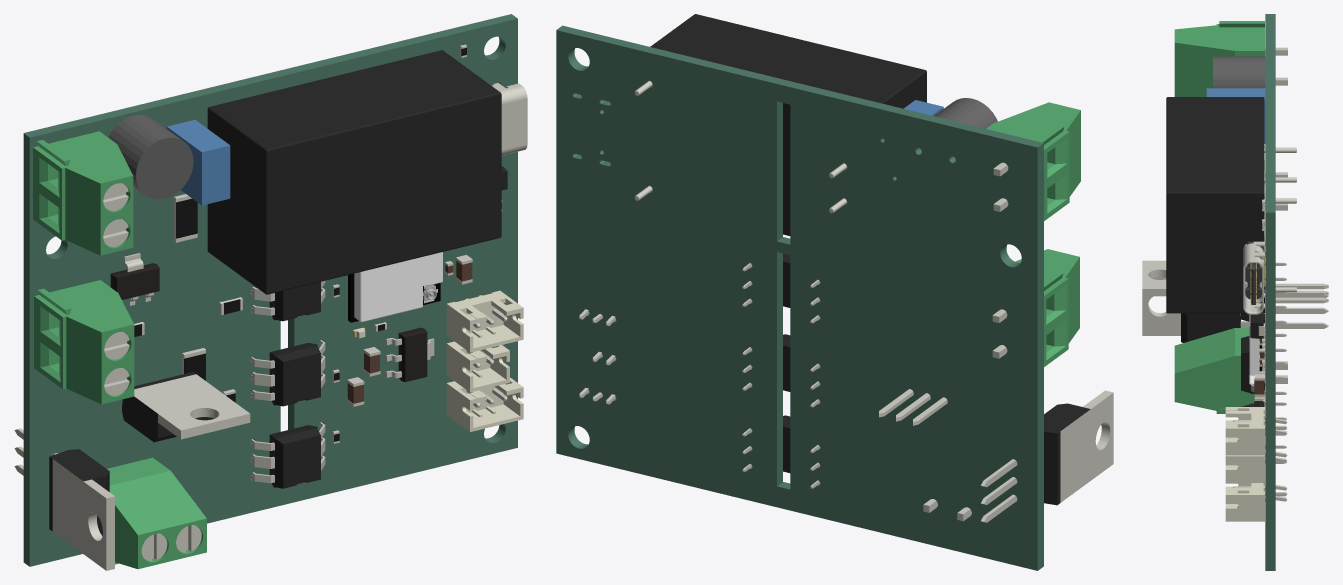
File: board.glb
The picture shows the model from 3 angles, left to right: view 1: azimuth 30°, elevation 25°; view 2: azimuth 150°, elevation 25°; view 3: azimuth 270°, elevation 25°; orthographic projection. The views are drawn at different scales.
Parts seen in each view (by area): view 1: =>[0:1:1:34], =>[0:1:1:15]_821b91, =>[0:1:1:13]_2_6fab38, =>[0:1:1:13]_1_cd9b93, =>[0:1:1:13]_56b3db, =>[0:1:1:29]_54a26b, F1, =>[0:1:1:29]_1_8aa45c, =>[0:1:1:5]_41f62d, =>[0:1:1:21]_1, =>[0:1:1:11]_ee7d7d, RV1 (+14 smaller); view 2: =>[0:1:1:34], =>[0:1:1:15]_821b91, =>[0:1:1:29]_54a26b, =>[0:1:1:13]_1_cd9b93, =>[0:1:1:13]_2_6fab38, =>[0:1:1:29]_ce2b98, F1, =>[0:1:1:29]_1_8aa45c, =>[0:1:1:21]_1; view 3: =>[0:1:1:15]_821b91, =>[0:1:1:34], =>[0:1:1:13]_56b3db, =>[0:1:1:13]_1_cd9b93, =>[0:1:1:29]_54a26b, =>[0:1:1:11]_ee7d7d, =>[0:1:1:29]_1_8aa45c, F1, =>[0:1:1:11]_1_a322e2, =>[0:1:1:29]_ce2b98, =>[0:1:1:17]_7c09e5, =>[0:1:1:27]_6ffb60 (+7 smaller).
Part boxes in pixels (x1,y1,x2,y2): =>[0:1:1:34]: [23, 14, 517, 566]; =>[0:1:1:15]_821b91: [207, 50, 501, 294]; =>[0:1:1:13]_2_6fab38: [34, 280, 134, 404]; =>[0:1:1:13]_1_cd9b93: [33, 131, 133, 255]; =>[0:1:1:13]_56b3db: [107, 457, 206, 569]; =>[0:1:1:29]_54a26b: [14, 428, 114, 570]; F1: [108, 114, 193, 199]; =>[0:1:1:29]_1_8aa45c: [122, 374, 250, 439]; =>[0:1:1:5]_41f62d: [354, 252, 442, 322]; =>[0:1:1:21]_1: [250, 422, 325, 488]; =>[0:1:1:11]_ee7d7d: [446, 290, 523, 352]; RV1: [166, 120, 230, 205]; =>[0:1:1:34]: [556, 25, 1043, 570]; =>[0:1:1:15]_821b91: [650, 14, 926, 235]; =>[0:1:1:29]_54a26b: [981, 390, 1113, 522]; =>[0:1:1:13]_1_cd9b93: [986, 102, 1080, 220]; =>[0:1:1:13]_2_6fab38: [1015, 249, 1079, 366]; =>[0:1:1:29]_ce2b98: [1044, 403, 1090, 505]; F1: [934, 98, 997, 128]; =>[0:1:1:29]_1_8aa45c: [879, 389, 947, 425]; =>[0:1:1:21]_1: [742, 415, 820, 488]; =>[0:1:1:15]_821b91: [1166, 97, 1264, 313]; =>[0:1:1:34]: [1265, 14, 1275, 570]; =>[0:1:1:13]_56b3db: [1174, 328, 1254, 413]; =>[0:1:1:13]_1_cd9b93: [1174, 21, 1264, 96]; =>[0:1:1:29]_54a26b: [1142, 277, 1328, 335]; =>[0:1:1:11]_ee7d7d: [1225, 407, 1264, 455]; =>[0:1:1:29]_1_8aa45c: [1142, 260, 1328, 303]; F1: [1213, 56, 1265, 88]; =>[0:1:1:11]_1_a322e2: [1225, 483, 1264, 521]; =>[0:1:1:29]_ce2b98: [1181, 313, 1240, 342]; =>[0:1:1:17]_7c09e5: [1225, 455, 1264, 482]; =>[0:1:1:27]_6ffb60: [1243, 241, 1265, 314].
Bounding box in the file's own units: 72 × 60.5 × 28.52.
